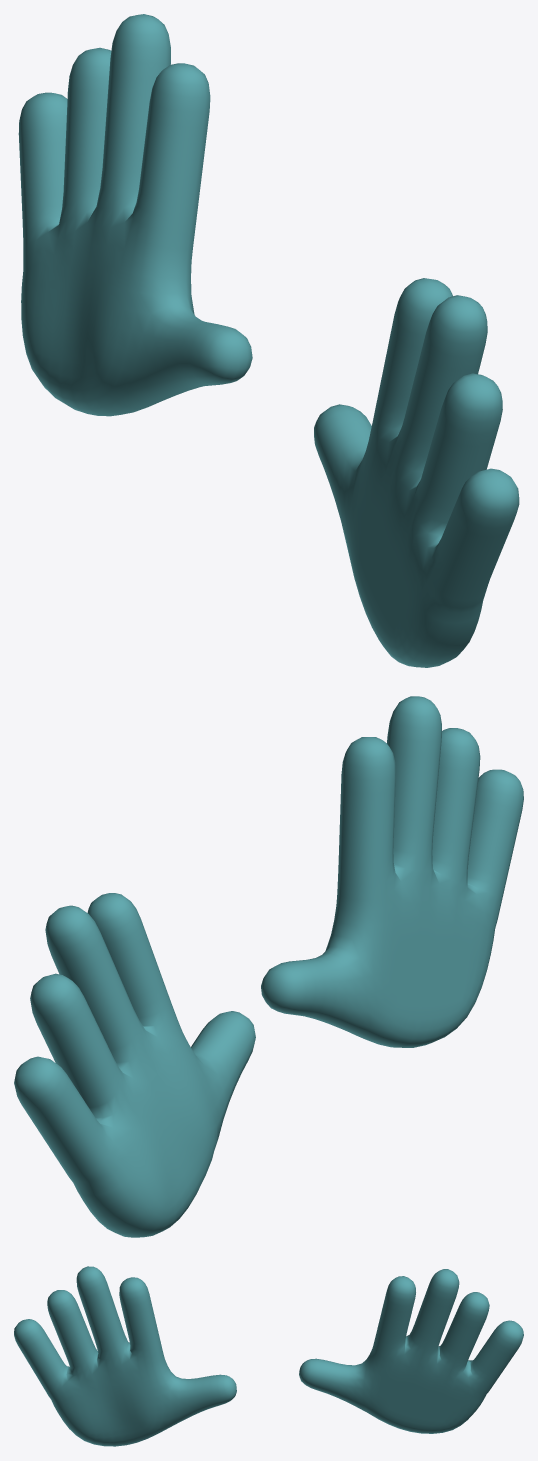
Rendered from main2.fbx.
3 views of the same model, one above another, from view 1: azimuth 30°, elevation 25°; view 2: azimuth 150°, elevation 25°; view 3: azimuth 270°, elevation 25° (orthographic). The views are drawn at different scales.
Visible parts, largest first — view 1: pCube1, pCube2; view 2: pCube2, pCube1; view 3: pCube2, pCube1.
Part boxes in pixels (x1,y1,x2,y2): pCube1: (18, 14, 252, 416); pCube2: (314, 278, 519, 667); pCube2: (261, 696, 523, 1047); pCube1: (14, 893, 255, 1237); pCube2: (14, 1266, 236, 1446); pCube1: (299, 1269, 523, 1433).
Bounding box in the file's own units: 2.39 × 6.56 × 15.99.
